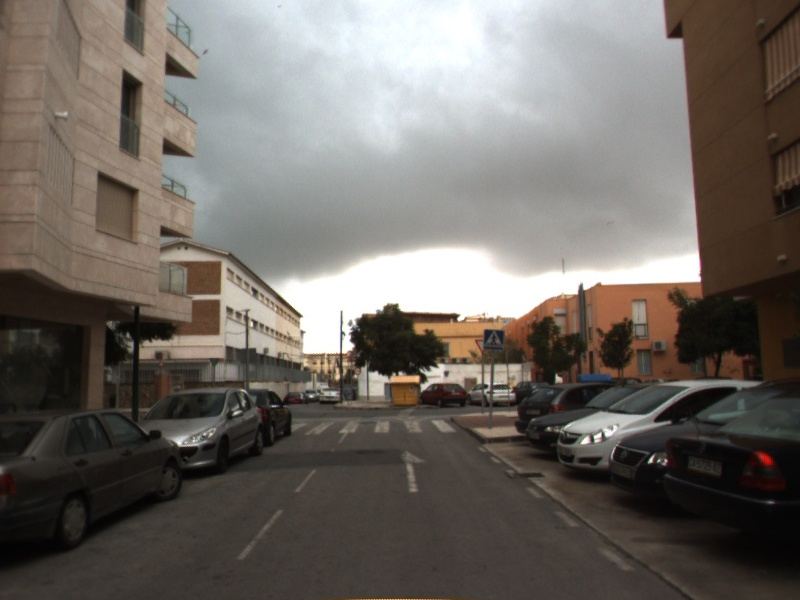STRAIGHT: (397, 448, 430, 494)
